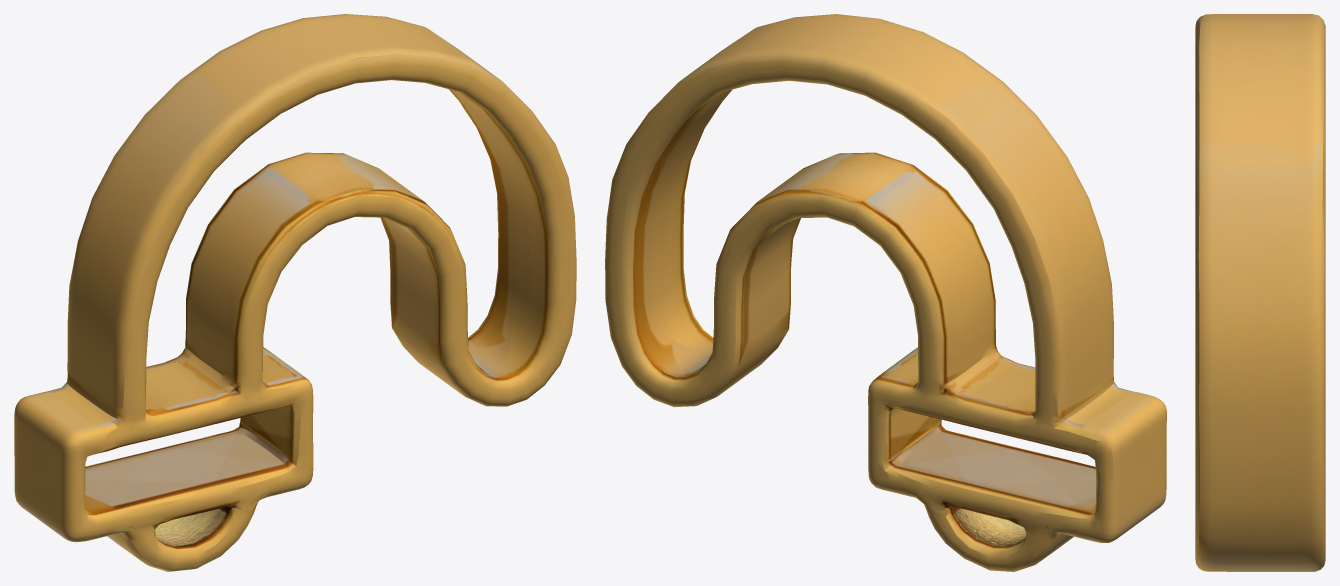
The model's file is symbol.fbx.
3 views of the same model, side by side, from view 1: azimuth 30°, elevation 25°; view 2: azimuth 150°, elevation 25°; view 3: azimuth 270°, elevation 25° (orthographic). The views are drawn at different scales.
Parts seen in each view (by area): view 1: Mesh0; view 2: Mesh0; view 3: Mesh0.
Boxes of the visible parts, bbox=[...] form: Mesh0: bbox=[14, 14, 576, 571]; Mesh0: bbox=[605, 14, 1166, 571]; Mesh0: bbox=[1195, 14, 1325, 571].
Bounding box in the file's own units: 112 × 100 × 22.2.
1 material, 1 textured.
